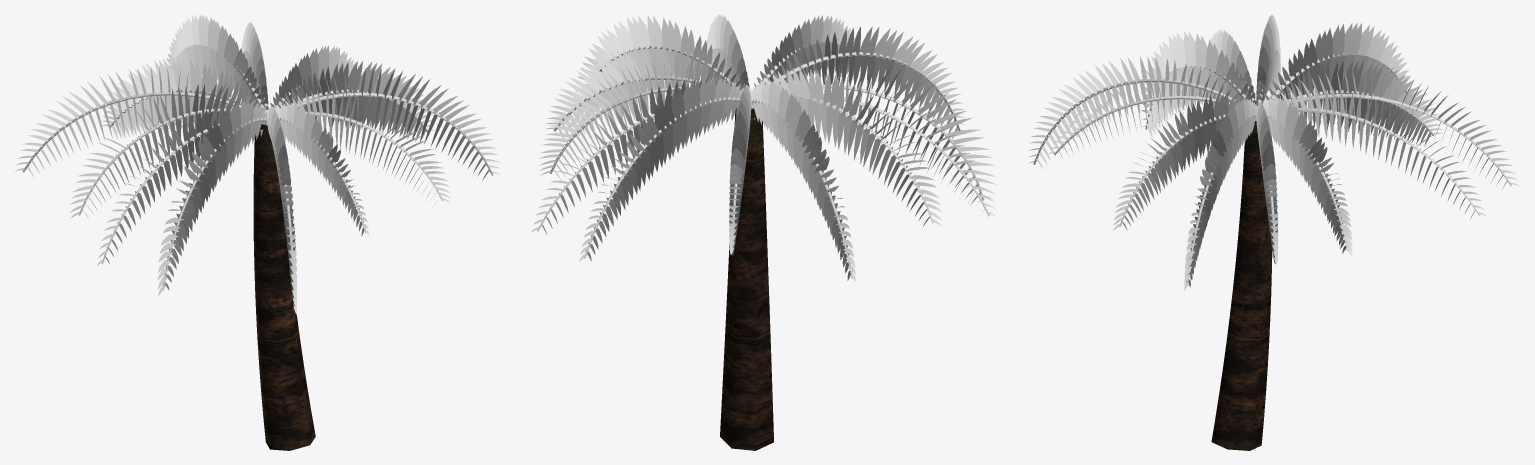
File: Baumfarn_2.fbx
3 views of the same model, side by side, from view 1: azimuth 30°, elevation 25°; view 2: azimuth 150°, elevation 25°; view 3: azimuth 270°, elevation 25° (orthographic). The views are drawn at different scales.
Visible parts, largest first — view 1: Baumfarn_2; view 2: Baumfarn_2; view 3: Baumfarn_2.
Boxes of the visible parts, x1=… form: Baumfarn_2: x1=15, y1=14, x2=500, y2=450; Baumfarn_2: x1=531, y1=14, x2=996, y2=450; Baumfarn_2: x1=1028, y1=14, x2=1518, y2=450.
Bounding box in the file's own units: 3.97 × 3.54 × 4.23.
Materials: 2 (1 with a texture image).
